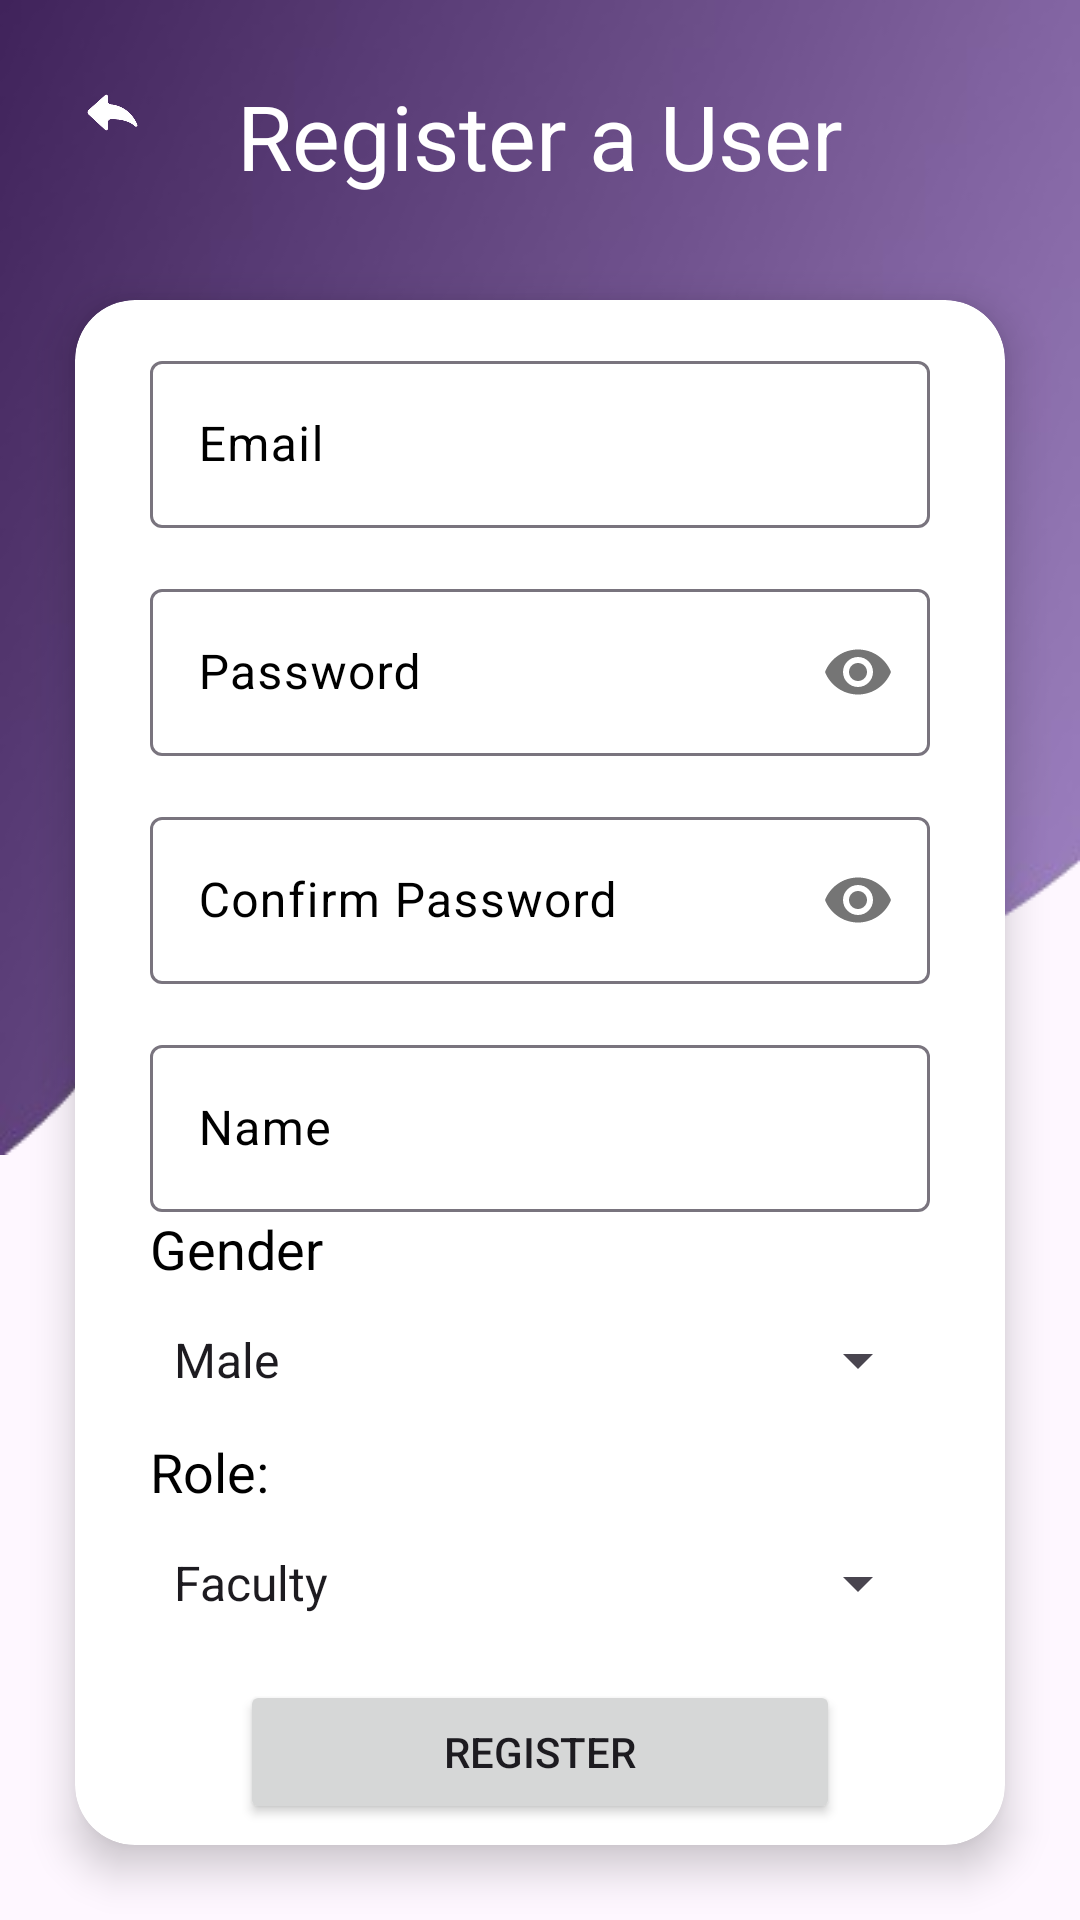

Icons on this 1080x1920 Android screen, each with its box as (x1, y1, x2, y2):
back: (87, 94, 138, 131)
